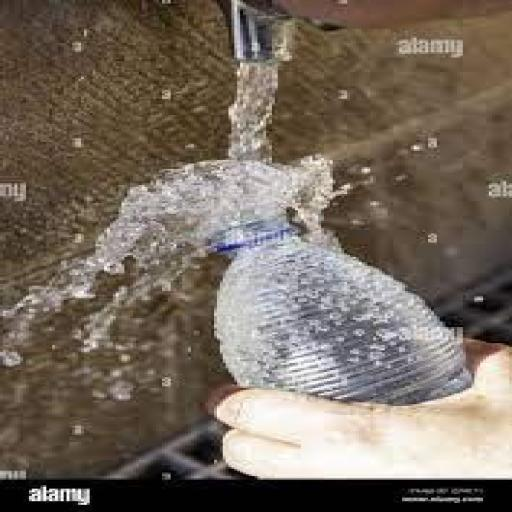bottle: (144, 153, 512, 413)
